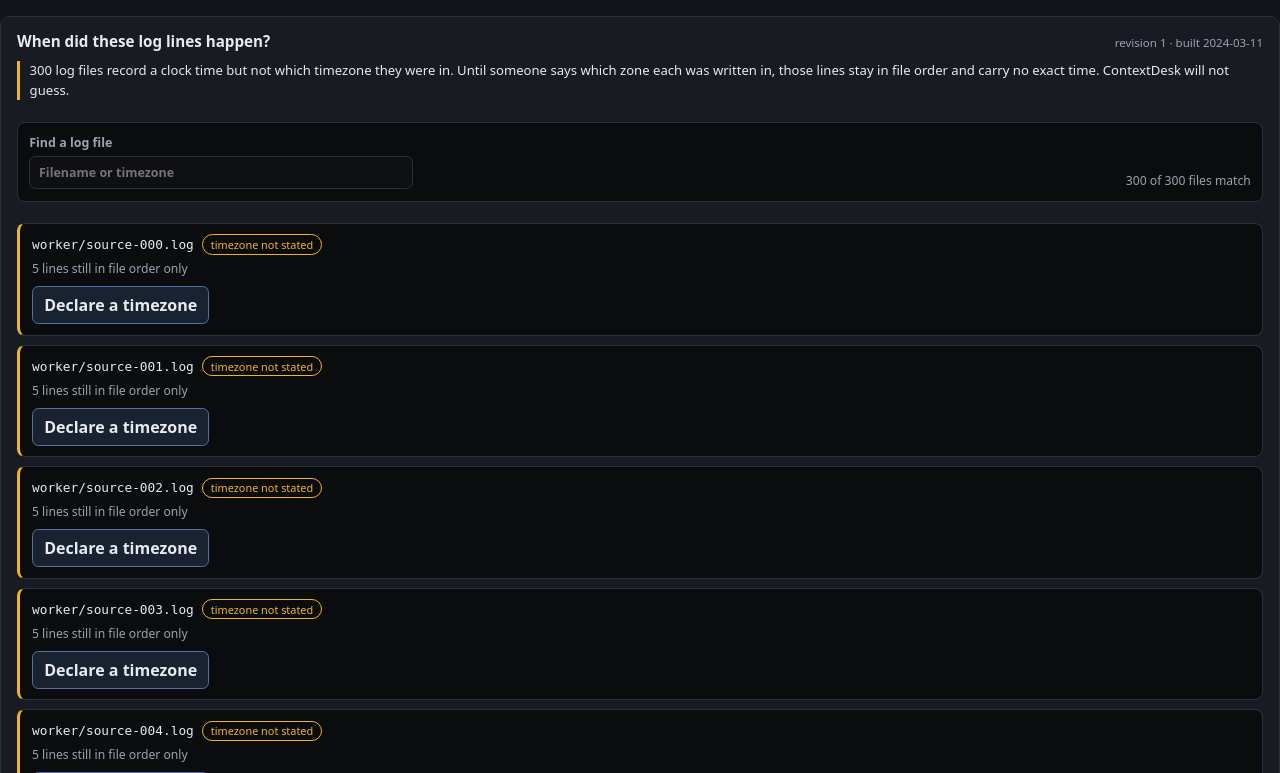
Scenario: LogTimeReviewPanel › keeps a 300-file timezone review bounded until the operator filters
The width and height of the screenshot is (1280, 773).
Expected: the text "300 of 300 files match" is shown, [1126,172,1251,189]
Type "source-299" into the search field labelled "Find a log file" at (221, 173), box [29,156,413,189]
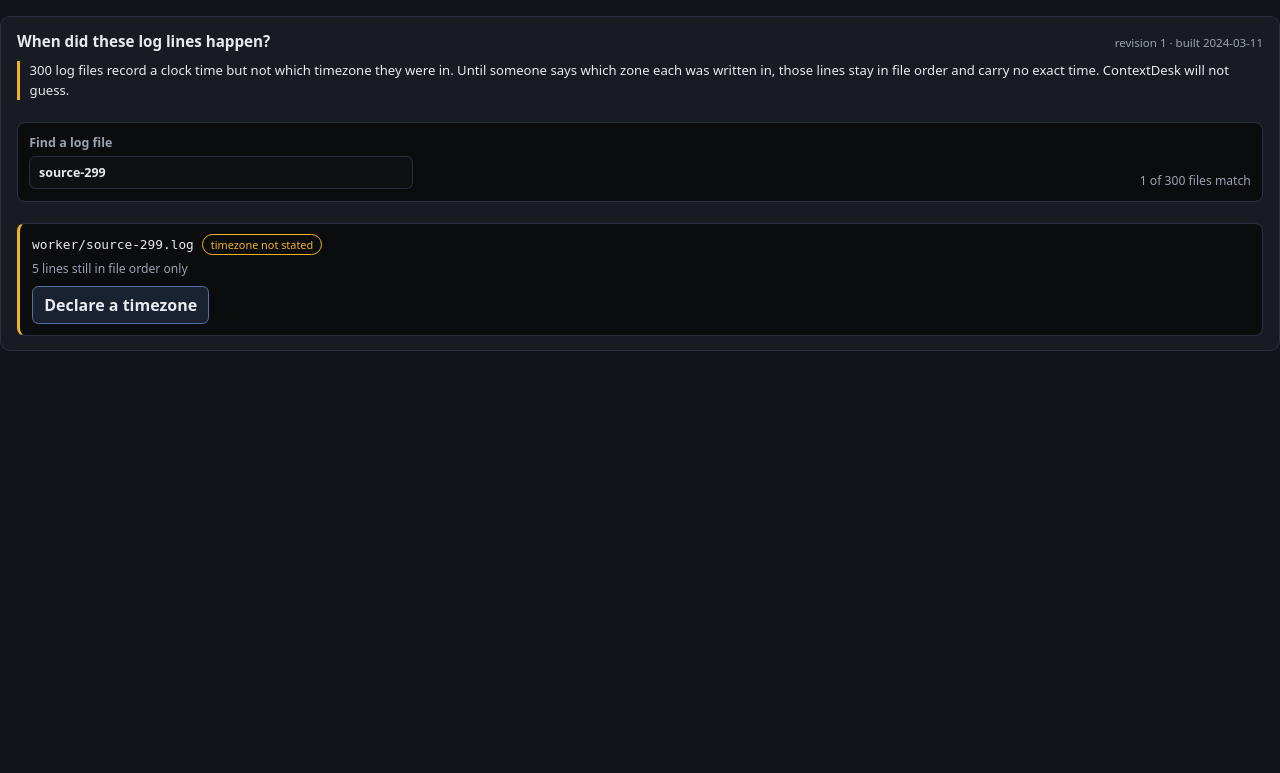
Result: the text "worker/source-299.log" is shown at [32,237,194,252]
Result: the text "1 of 300 files match" is shown at [1140,172,1251,189]
Result: the text "worker/source-000.log" is gone
